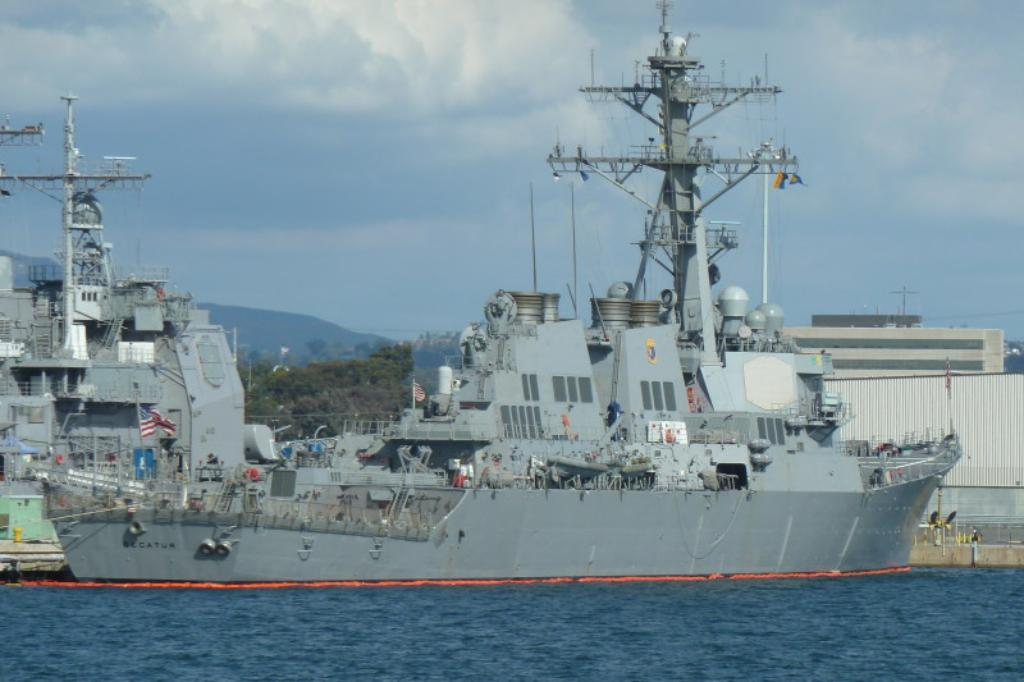Warship: (33, 0, 963, 588), (0, 80, 252, 580)
